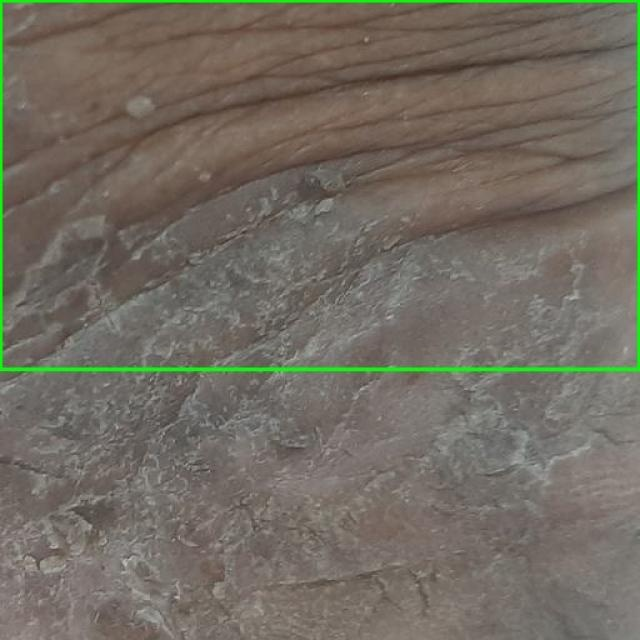Eczema: (0, 0, 639, 369)
